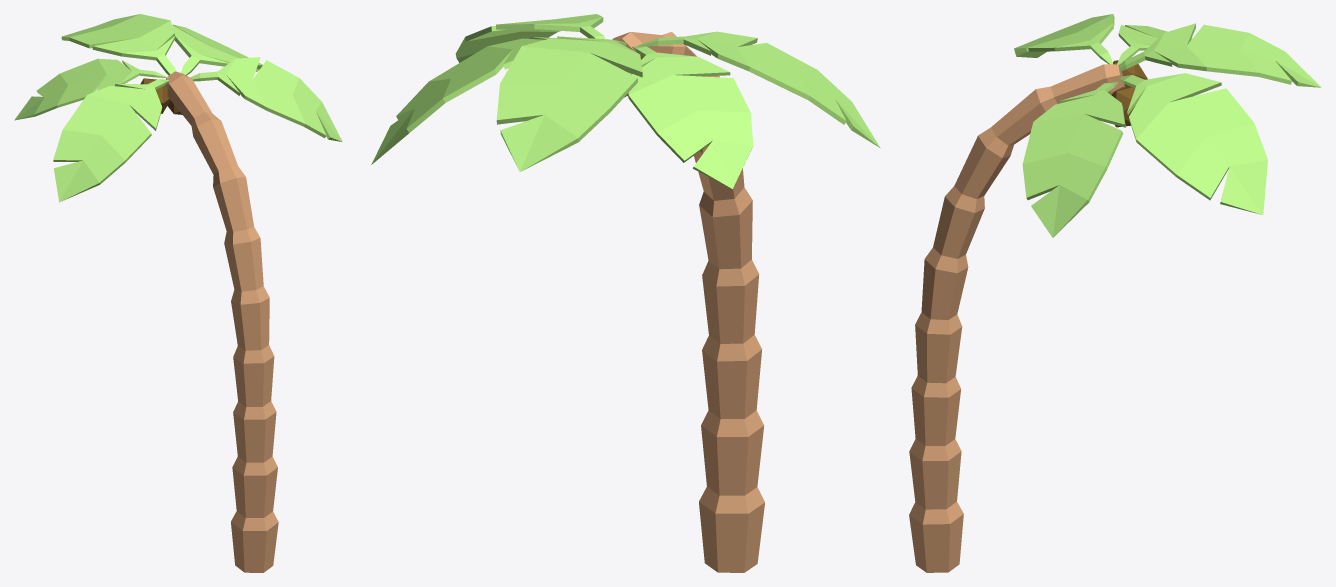
The model's file is palmTree.fbx.
3 views of the same model, side by side, from view 1: azimuth 30°, elevation 25°; view 2: azimuth 150°, elevation 25°; view 3: azimuth 270°, elevation 25° (orthographic). The views are drawn at different scales.
Parts seen in each view (by area): view 1: palm_Trunk, leaf3, leaf4, leaf5, leaf1, leaf6; view 2: palm_Trunk, leaf5, leaf1, leaf3, leaf6, leaf4; view 3: palm_Trunk, leaf6, leaf4, leaf5, leaf3, leaf1.
Boxes of the visible parts, x1,y1,x2,y2 form: palm_Trunk: (165, 71, 278, 572); leaf3: (53, 79, 169, 202); leaf4: (190, 57, 342, 141); leaf5: (61, 14, 175, 75); leaf1: (14, 58, 168, 120); leaf6: (172, 24, 262, 75); palm_Trunk: (612, 32, 764, 572); leaf5: (496, 36, 642, 171); leaf1: (628, 46, 753, 188); leaf3: (637, 31, 880, 148); leaf6: (371, 37, 556, 164); leaf4: (455, 14, 605, 62); palm_Trunk: (909, 64, 1124, 572); leaf6: (1119, 73, 1267, 214); leaf4: (1022, 82, 1125, 237); leaf5: (1119, 23, 1321, 87); leaf3: (1014, 14, 1114, 64); leaf1: (1117, 25, 1192, 64).
Bounding box in the file's own units: 12.22 × 18.16 × 13.14.
